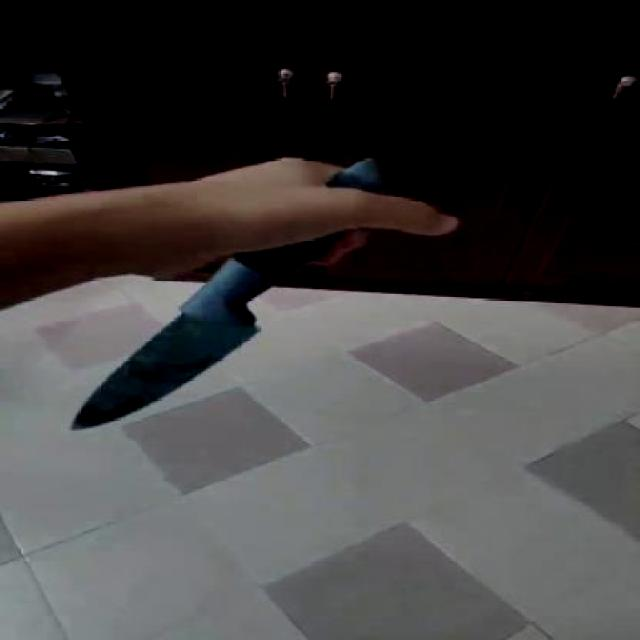knife: (25, 289, 317, 454)
